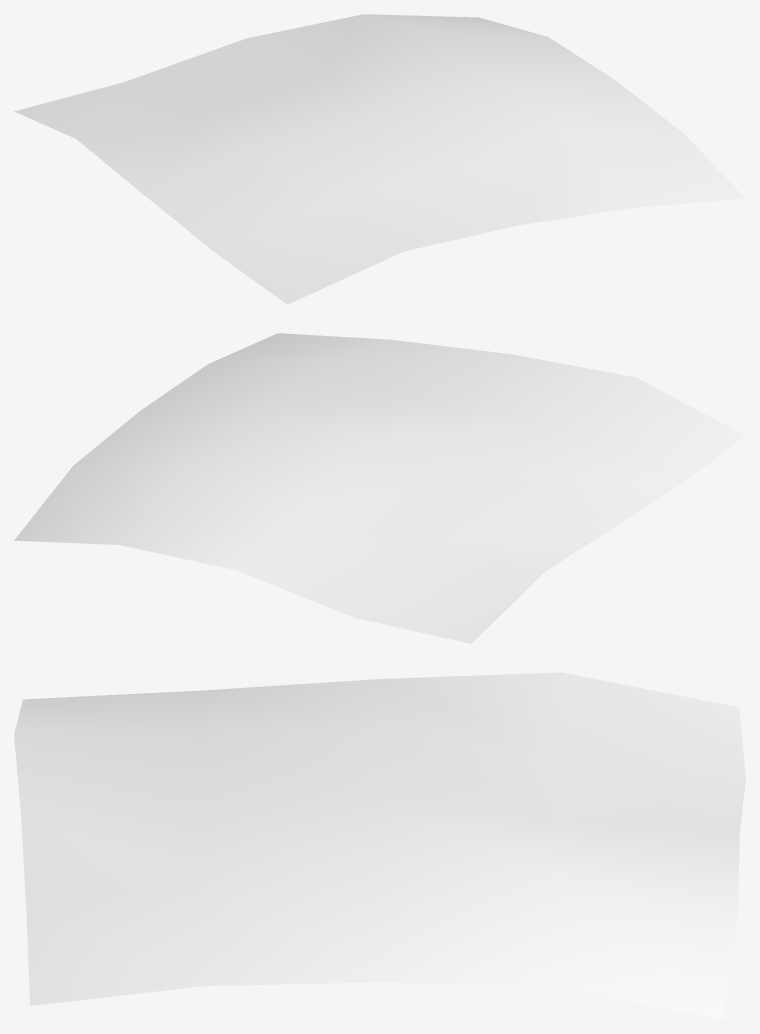
File: SM_Plant_FlowerPatch_01.glb
3 views of the same model, one above another, from view 1: azimuth 30°, elevation 25°; view 2: azimuth 150°, elevation 25°; view 3: azimuth 270°, elevation 25° (orthographic). The views are drawn at different scales.
Parts seen in each view (by area): view 1: SM_Plant_FlowerPatch_01; view 2: SM_Plant_FlowerPatch_01; view 3: SM_Plant_FlowerPatch_01.
Boxes of the visible parts, left/top/right/bottom form: SM_Plant_FlowerPatch_01: left=14, top=14, right=745, bottom=304; SM_Plant_FlowerPatch_01: left=14, top=333, right=745, bottom=643; SM_Plant_FlowerPatch_01: left=14, top=672, right=745, bottom=1019.
Bounding box in the file's own units: 1.15 × 0.1387 × 1.17.
Materials: 1 (1 with a texture image).
